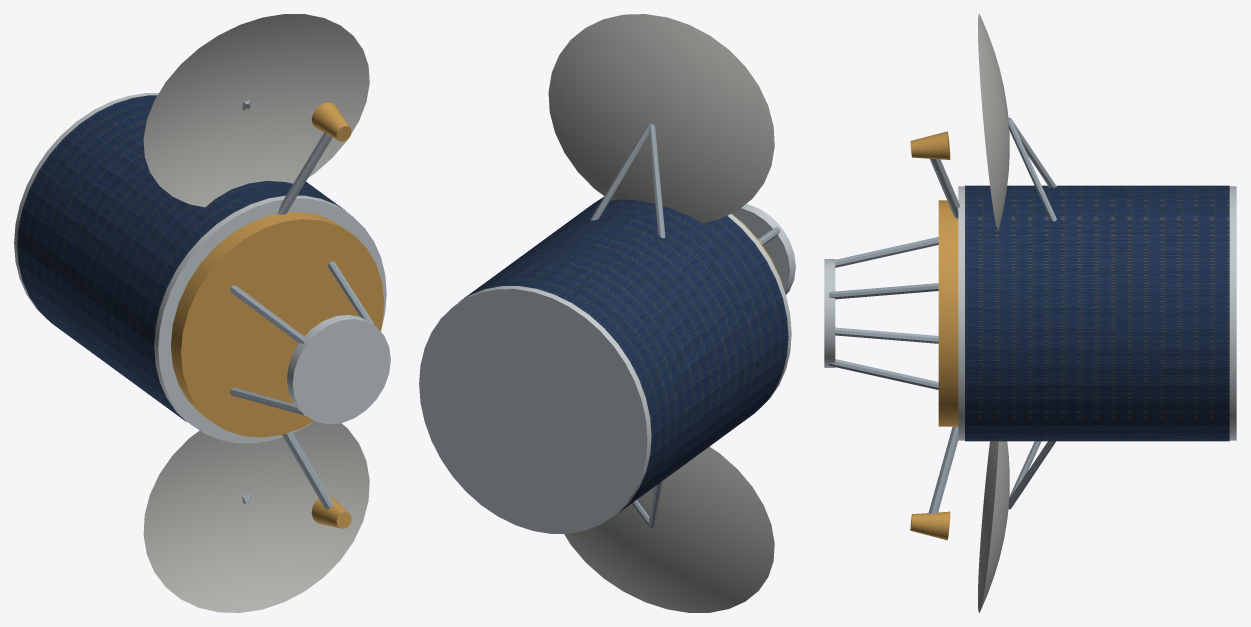
File: ref-dscs-ii-5587.glb
3 renders of one model, left to right at view 1: azimuth 30°, elevation 25°; view 2: azimuth 150°, elevation 25°; view 3: azimuth 270°, elevation 25°, orthographic. The views are drawn at different scales.
Parts seen in each view (by area): view 1: Communications reflector (×2), Body-mounted solar cells, Despun equipment deck, Solar drum core, Antenna tower platform, Antenna tower leg (×3), Offset feed boom (×2), Feed horn (×2); view 2: Communications reflector (×2), Solar drum core, Body-mounted solar cells, Antenna tower platform, Shell hinge strut (×2); view 3: Body-mounted solar cells, Communications reflector (×2), Despun equipment deck, Solar drum core, Antenna tower leg (×4), Feed horn (×2), Offset feed boom (×2), Shell hinge strut (×2), Antenna tower platform.
Boxes of the visible parts, x1,y1,x2,y2 form: Communications reflector (×2): [143, 14, 369, 612]; Body-mounted solar cells: [17, 95, 346, 421]; Despun equipment deck: [171, 212, 384, 437]; Solar drum core: [14, 93, 386, 443]; Antenna tower platform: [287, 314, 390, 424]; Antenna tower leg (×3): [230, 261, 374, 415]; Offset feed boom (×2): [277, 132, 333, 509]; Feed horn (×2): [311, 102, 351, 528]; Communications reflector (×2): [548, 14, 774, 612]; Solar drum core: [419, 214, 791, 533]; Body-mounted solar cells: [458, 197, 788, 512]; Antenna tower platform: [732, 204, 795, 294]; Shell hinge strut (×2): [590, 123, 665, 238]; Body-mounted solar cells: [965, 185, 1229, 441]; Communications reflector (×2): [978, 14, 1009, 612]; Despun equipment deck: [938, 200, 958, 426]; Solar drum core: [958, 186, 1236, 440]; Antenna tower leg (×4): [829, 237, 938, 389]; Feed horn (×2): [910, 131, 950, 540]; Offset feed boom (×2): [928, 158, 959, 513]; Shell hinge strut (×2): [1008, 119, 1056, 509]; Antenna tower platform: [824, 259, 835, 367].
Bounding box in the file's own units: 2.71 × 6.69 × 4.37.
Materials: 5 (1 with a texture image).
